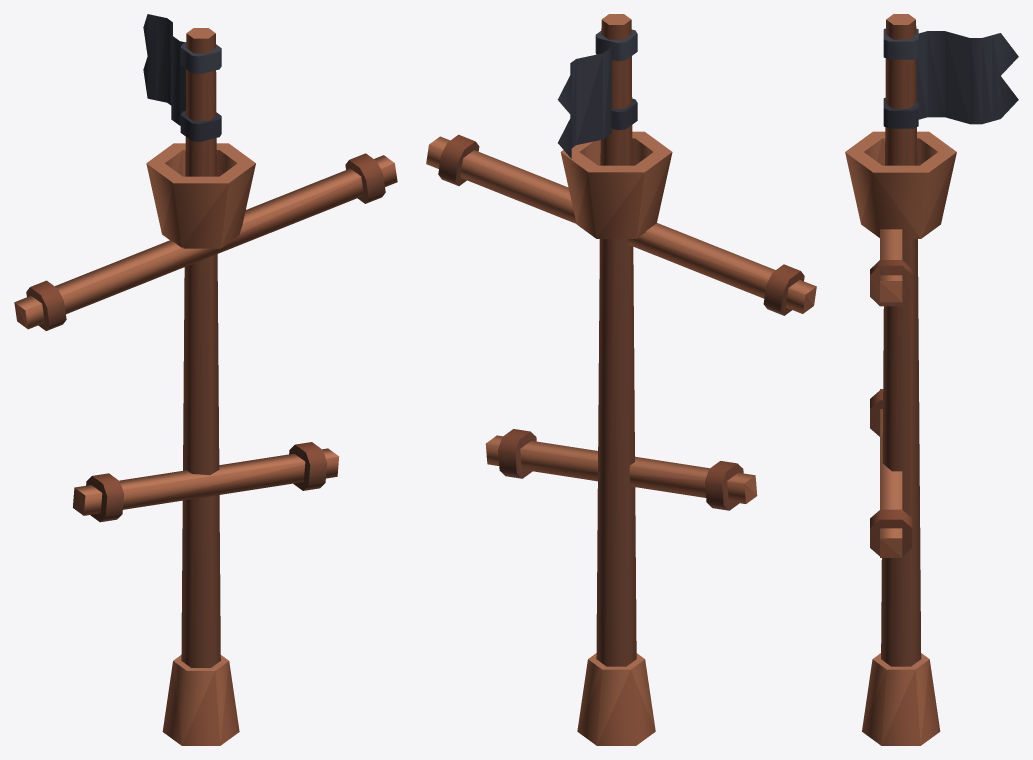
Rendered from pirate_mast.glb.
The picture shows the model from 3 angles, left to right: view 1: azimuth 30°, elevation 25°; view 2: azimuth 150°, elevation 25°; view 3: azimuth 270°, elevation 25°; orthographic projection.
Visible parts, largest first — view 1: pirate_mast; view 2: pirate_mast; view 3: pirate_mast.
Part boxes in pixels (x1=…): pirate_mast: x1=14, y1=14, x2=397, y2=745; pirate_mast: x1=426, y1=14, x2=816, y2=745; pirate_mast: x1=845, y1=14, x2=1018, y2=745.
Bounding box in the file's own units: 4.39 × 7.86 × 1.74.
